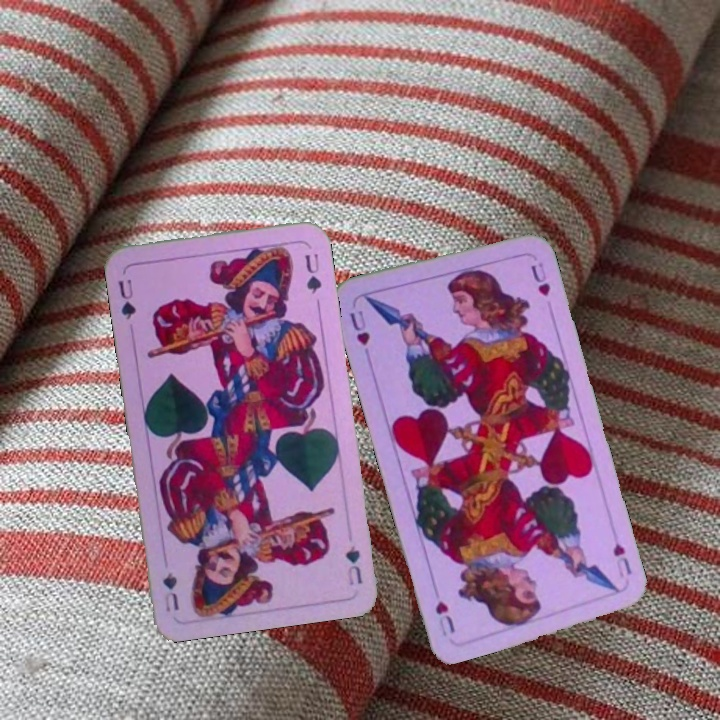GU: (114, 275, 139, 324), (341, 542, 365, 588)
HU: (345, 305, 373, 348), (609, 539, 634, 577)
